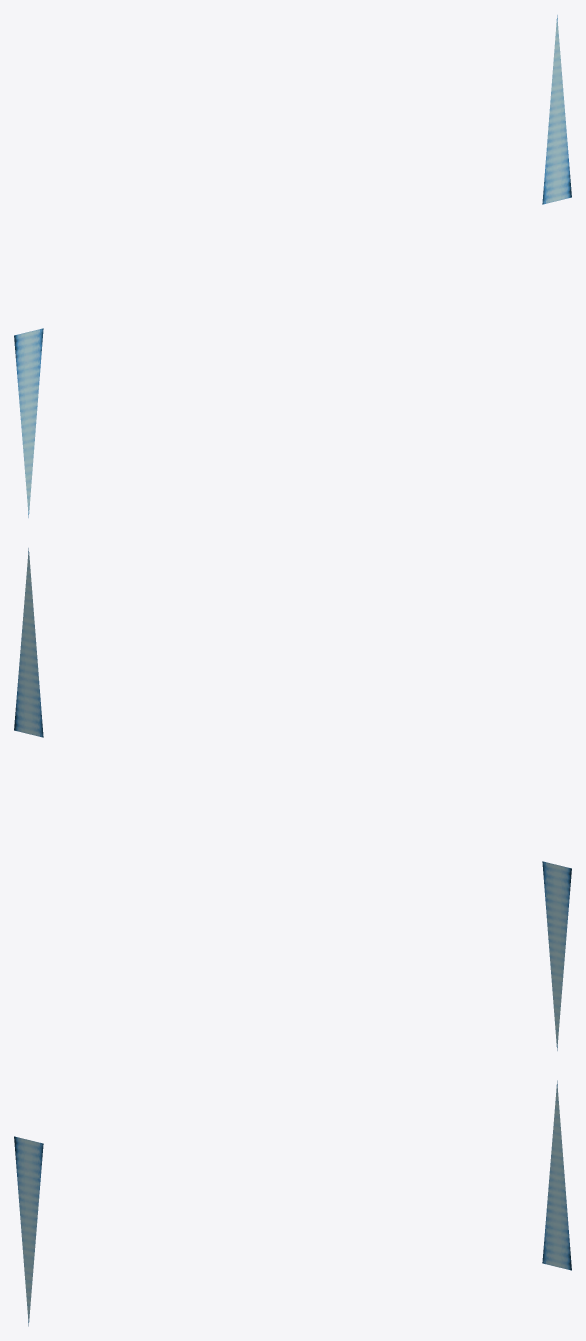
File: xwing_engine_neg_s02_on_l3.fbx
The picture shows the model from 3 angles, top to bottom: view 1: azimuth 30°, elevation 25°; view 2: azimuth 150°, elevation 25°; view 3: azimuth 330°, elevation 25°; orthographic projection.
Parts seen in each view (by area): view 1: mesh_node; view 2: mesh_node; view 3: mesh_node.
Part boxes in pixels (<box>): mesh_node: <box>14,15,571,517</box>; mesh_node: <box>14,548,571,1050</box>; mesh_node: <box>14,1080,571,1326</box>.
Bounding box in the file's own units: 3.67 × 2.36 × 0.
